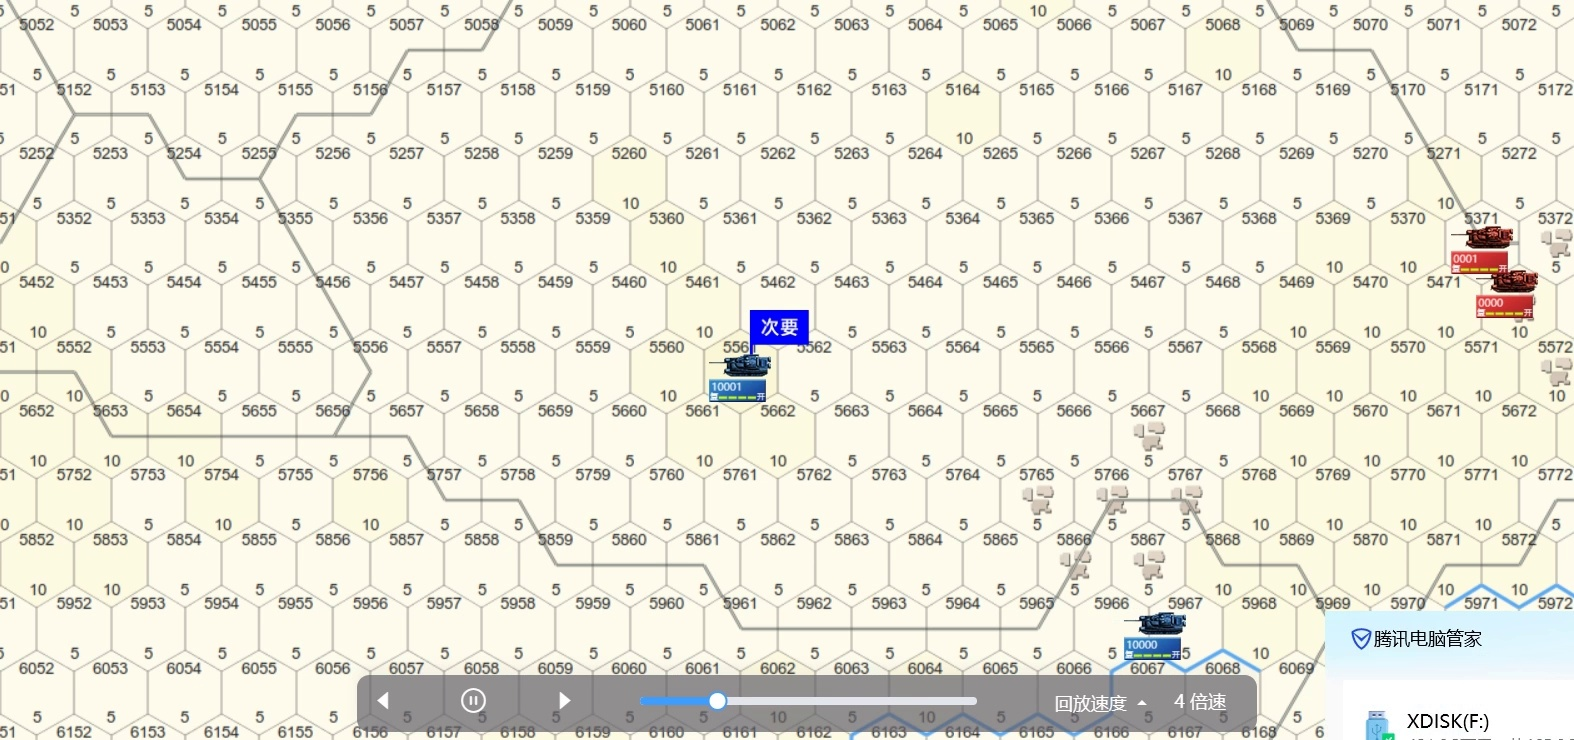blue_tank: (709, 353, 770, 398), (1131, 614, 1185, 654)
red_tank: (1478, 272, 1545, 313), (1456, 226, 1511, 269)
